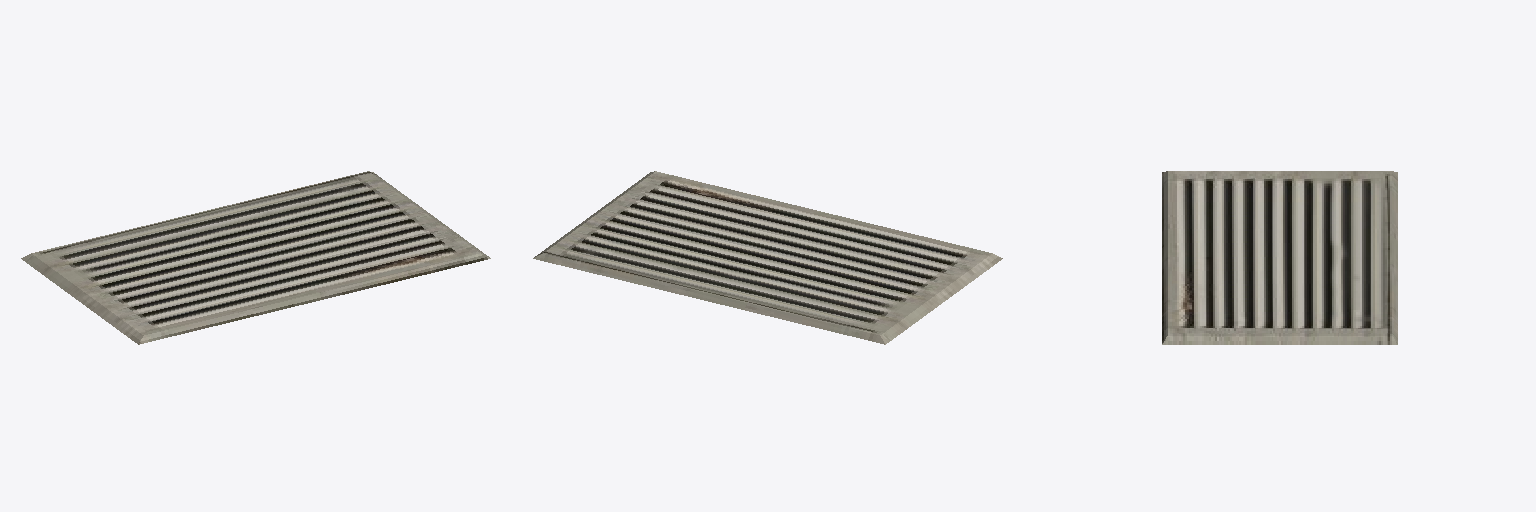
The picture shows the model from 3 angles: view 1: azimuth 30°, elevation 25°; view 2: azimuth 150°, elevation 25°; view 3: azimuth 270°, elevation 25°; orthographic projection.
Visible parts, largest first — view 1: vent_5; view 2: vent_5; view 3: vent_5.
Boxes of the visible parts, <box> form: vent_5: <box>21,171,490,344</box>; vent_5: <box>533,171,1002,344</box>; vent_5: <box>1162,171,1397,344</box>.
Bounding box in the file's own units: 0.2882 × 0.0041 × 0.1666.
Materials: 1 (1 with a texture image).